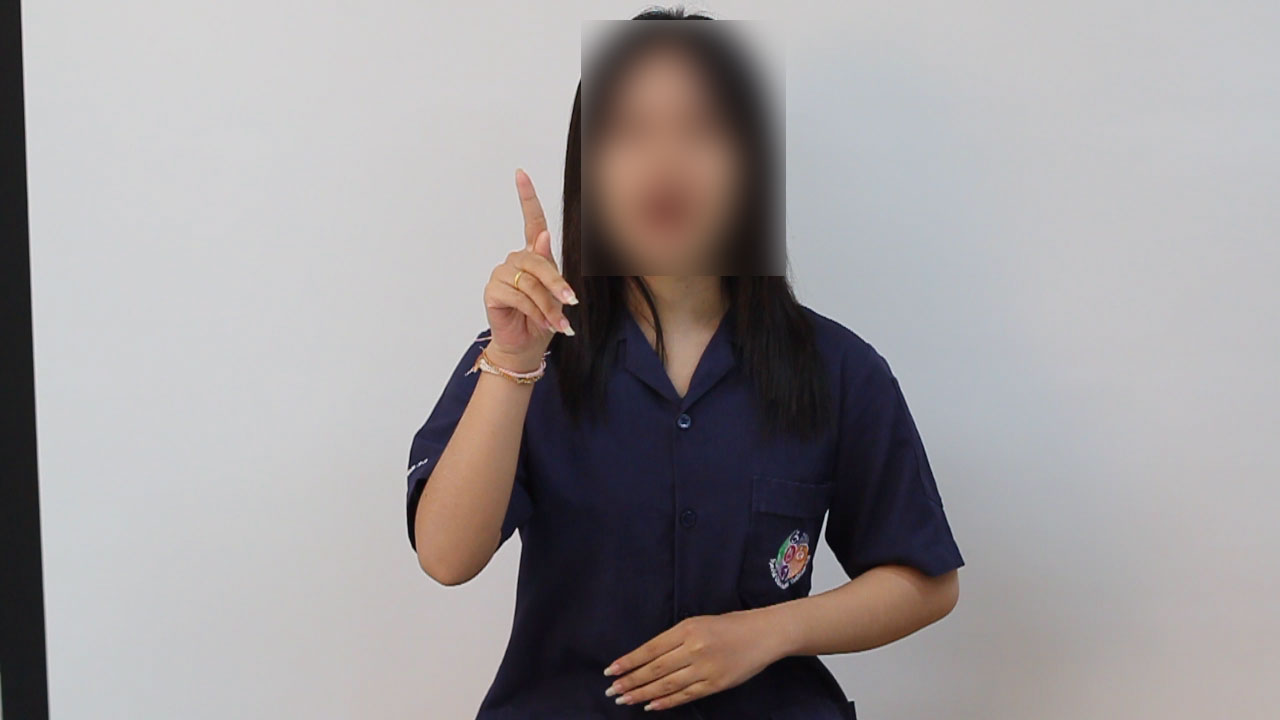ko: (429, 142, 587, 402)
